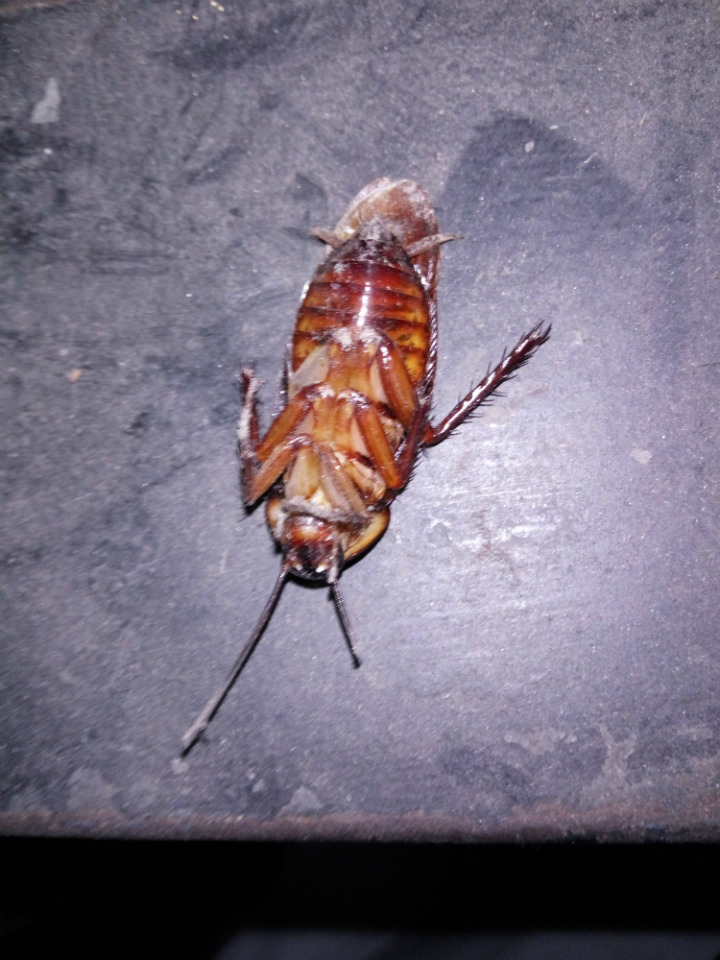cockroach: (160, 150, 603, 769)
